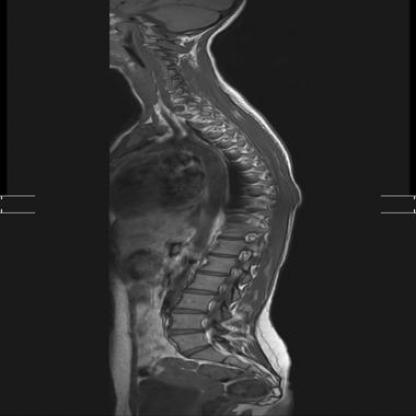Disc Bulgerotation: (227, 209, 261, 221), (216, 231, 252, 242), (231, 186, 259, 197)
